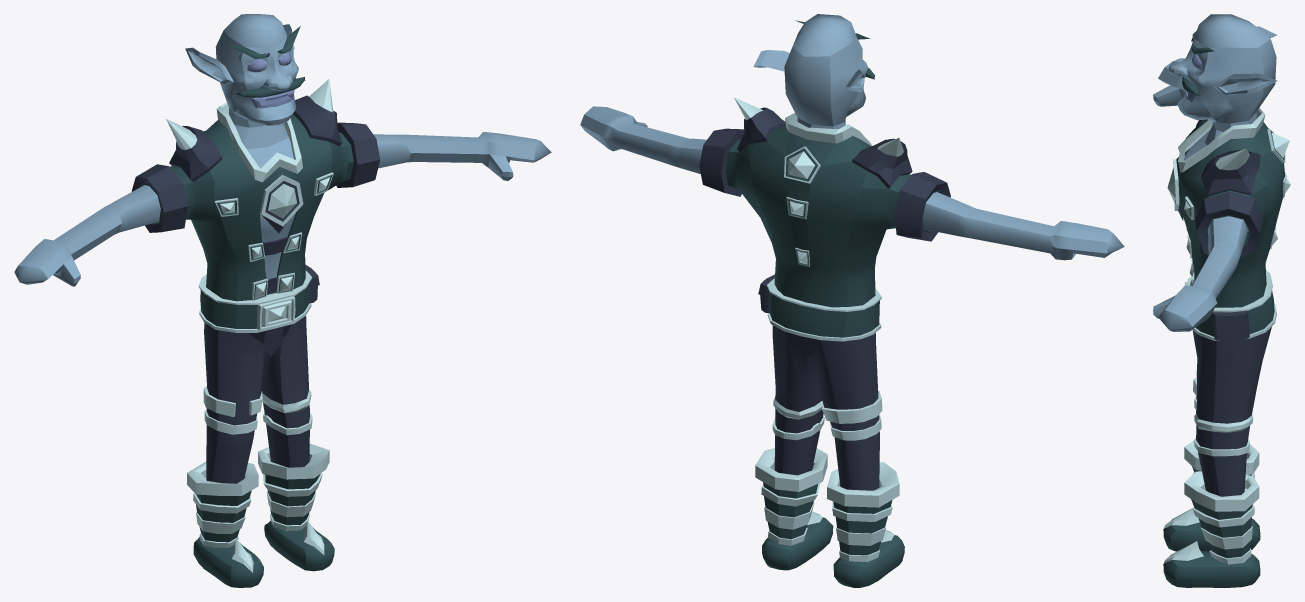
The model's file is gigante.fbx.
3 views of the same model, side by side, from view 1: azimuth 30°, elevation 25°; view 2: azimuth 150°, elevation 25°; view 3: azimuth 270°, elevation 25° (orthographic).
Parts seen in each view (by area): view 1: gigante; view 2: gigante; view 3: gigante.
Boxes of the visible parts, bbox=[...] form: gigante: bbox=[14, 14, 551, 587]; gigante: bbox=[580, 14, 1124, 587]; gigante: bbox=[1153, 14, 1290, 587].
Size of the model in its own units: 66.68 by 64.7 by 14.85.
